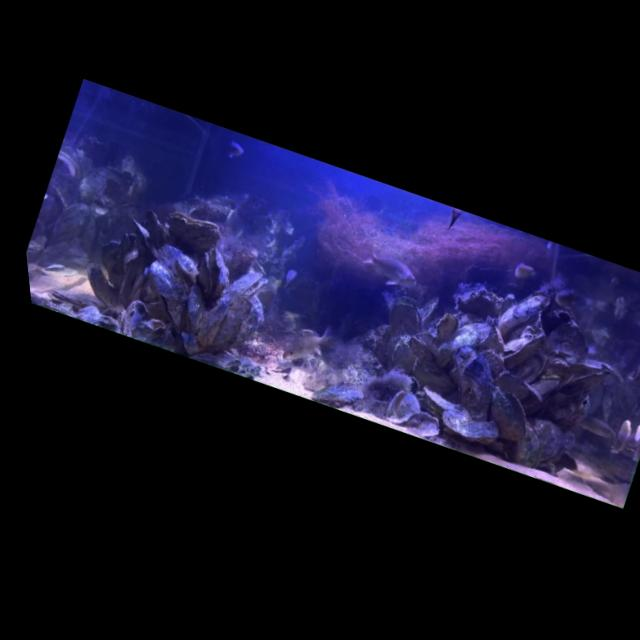Oyster-Closed: (127, 236, 214, 336), (430, 336, 515, 427), (427, 307, 497, 382), (489, 278, 557, 350), (433, 399, 505, 455), (209, 291, 261, 360), (514, 411, 573, 469), (495, 318, 551, 379), (190, 289, 239, 354), (505, 418, 555, 473), (416, 382, 476, 427), (172, 280, 217, 339), (49, 277, 109, 318), (406, 358, 460, 402), (472, 311, 518, 359), (121, 216, 161, 256)
Oyster-Indeterminate: (41, 195, 101, 267), (83, 233, 141, 296), (544, 340, 616, 390), (26, 181, 75, 246), (74, 258, 132, 312), (558, 356, 614, 411), (228, 293, 275, 357), (451, 279, 509, 330), (133, 206, 180, 256), (507, 340, 554, 388), (470, 342, 514, 386), (401, 405, 447, 446), (490, 365, 536, 406), (114, 295, 154, 342), (185, 193, 232, 233), (524, 365, 566, 405), (428, 308, 465, 348), (402, 334, 441, 367)
Oyster-Open: (474, 379, 543, 449), (160, 204, 227, 260), (187, 243, 242, 304), (379, 287, 435, 344), (379, 384, 429, 433), (224, 262, 273, 308), (48, 147, 89, 188)
